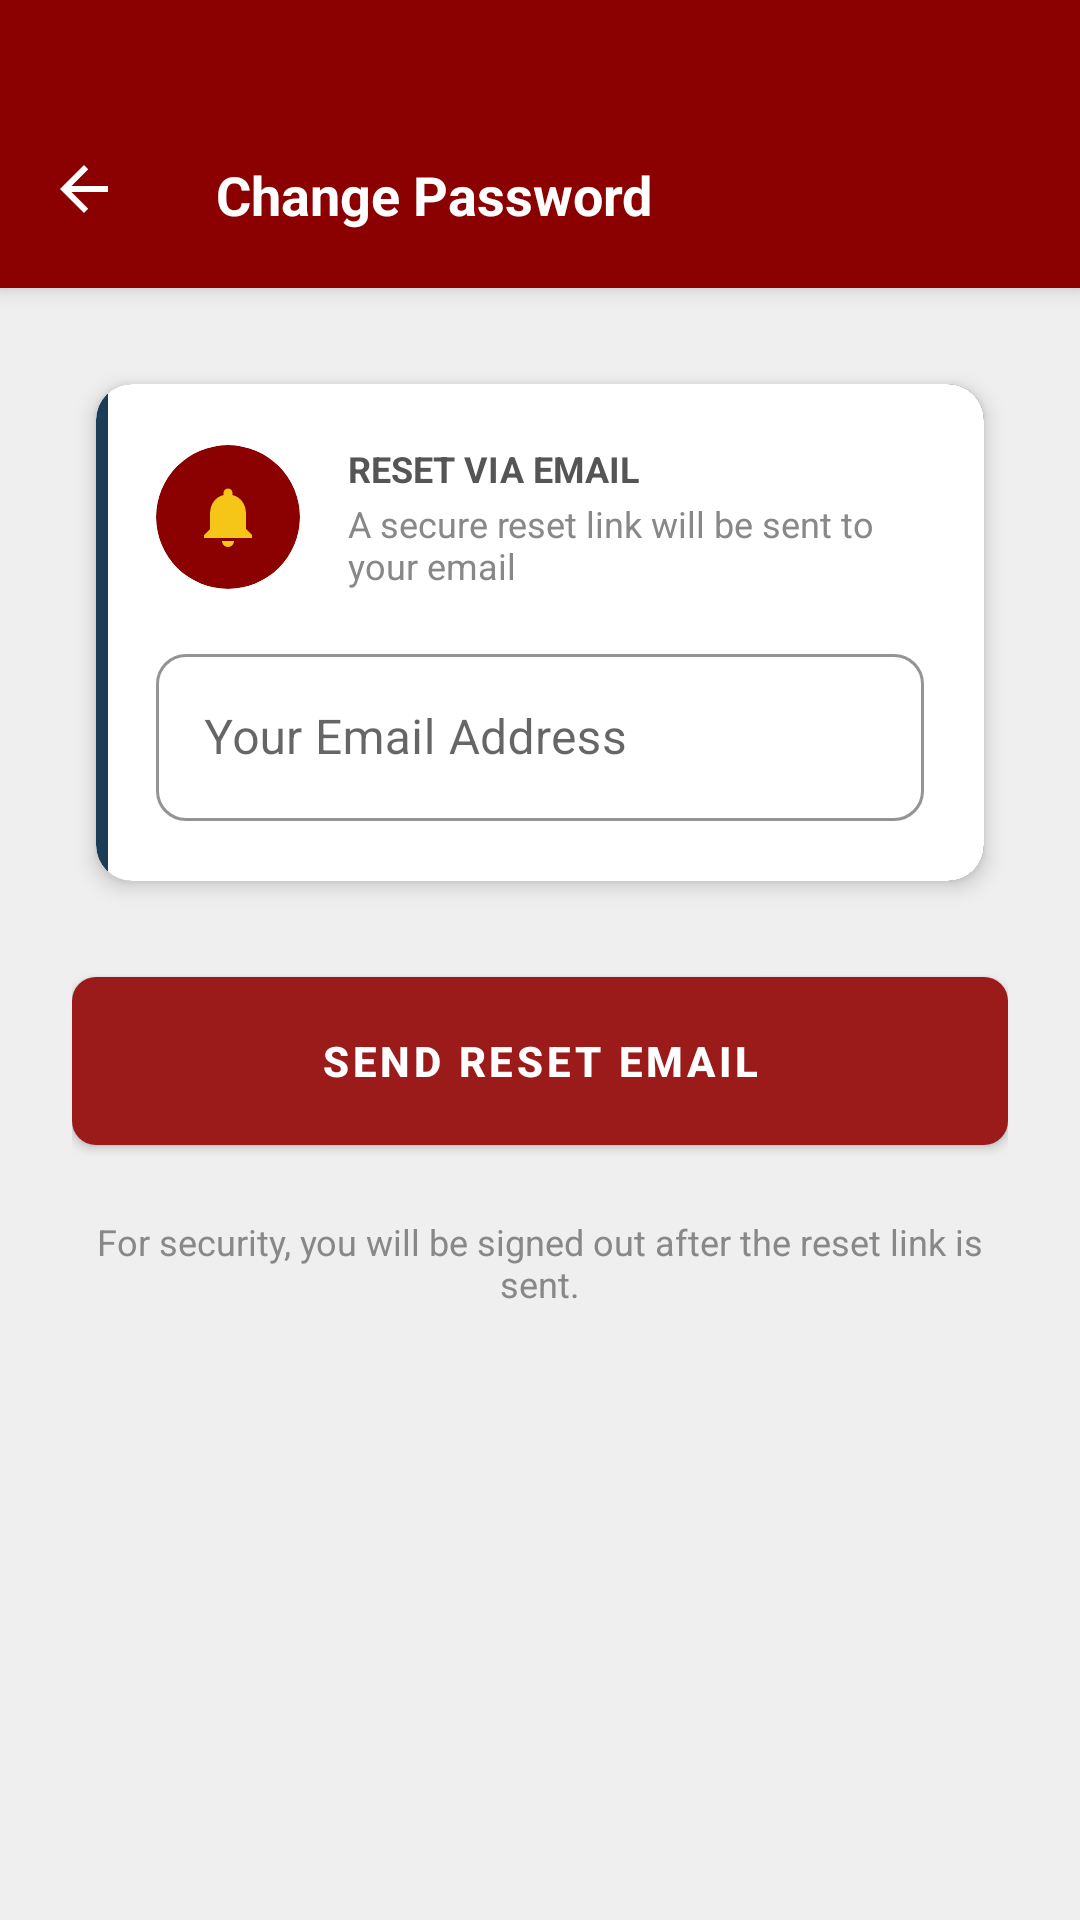

Screen size 1080px×1920px. Icon name, then its box in pixels as (x1, y1, x2, y2):
bell: (204, 488, 252, 547)
